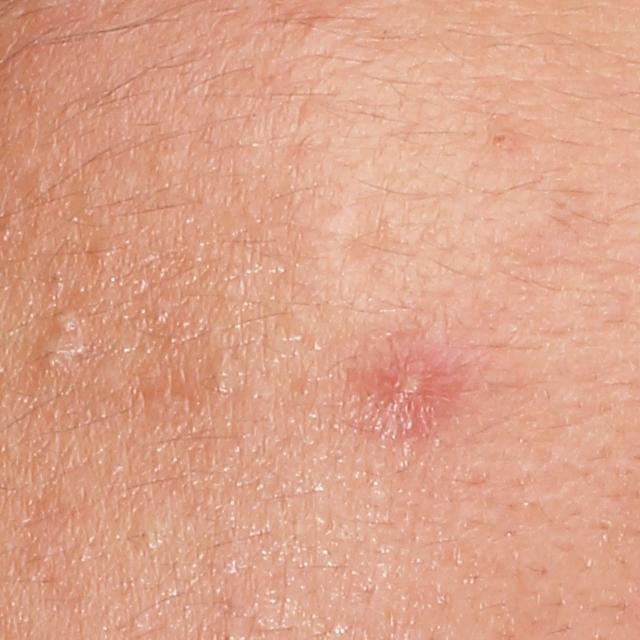comedo: (32, 330, 71, 371), (210, 348, 241, 397), (127, 519, 167, 553), (486, 125, 517, 158), (53, 304, 79, 335), (94, 243, 119, 264)
